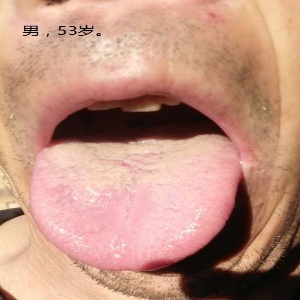st: (29, 138, 246, 258)
